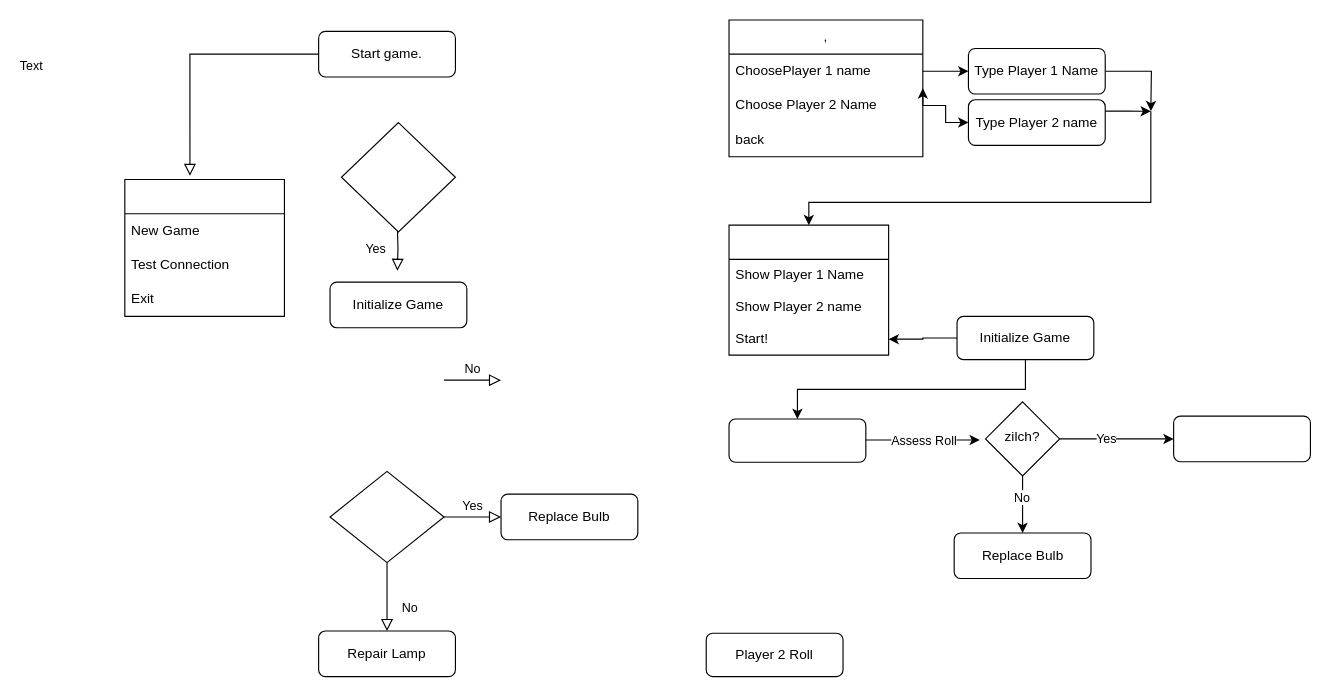
The diagram is 1330 pixels wide and 697 high, and some of its shapes have lost their labels. The box of each missing label's shape, as (x1, y1, x2, y2) in pixels:
Bulb burned out?: (329, 470, 444, 563)
Get Ready: (728, 224, 889, 355)
Go to next Player: (1172, 415, 1310, 462)
Main Menu: (124, 178, 284, 316)
New Game?: (340, 121, 455, 232)
Player 1 Roll: (728, 418, 866, 462)
